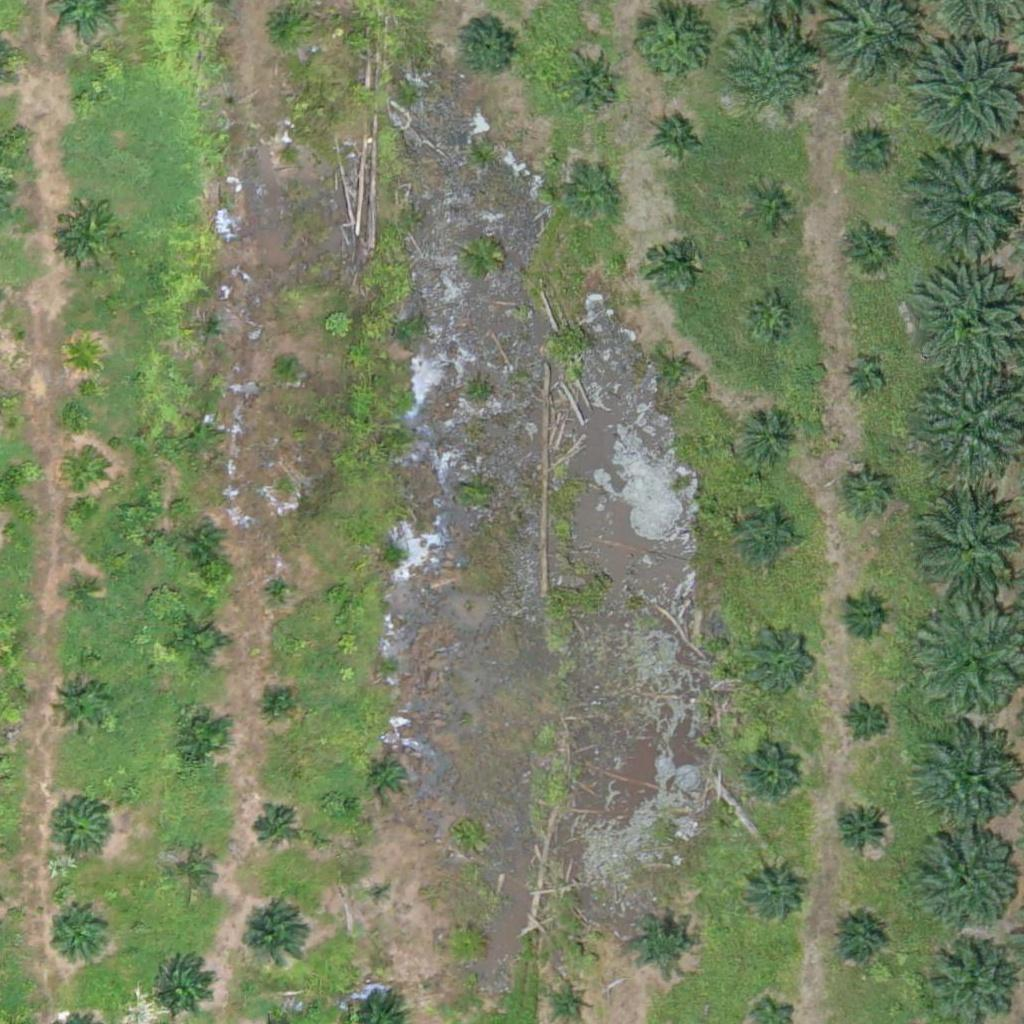Kelapa_Sawit: (910, 727, 1022, 841), (916, 825, 1016, 926), (626, 2, 713, 90), (726, 29, 813, 117), (237, 904, 312, 980), (744, 621, 819, 696), (561, 54, 624, 117), (456, 13, 519, 76), (58, 205, 121, 268), (631, 909, 694, 972), (740, 748, 803, 811), (830, 798, 893, 861), (152, 955, 214, 1018), (49, 677, 111, 740), (169, 710, 231, 773), (47, 797, 109, 860), (51, 908, 113, 971), (740, 408, 802, 471), (739, 505, 801, 568), (741, 859, 803, 922), (827, 910, 889, 973), (649, 106, 711, 169), (168, 611, 230, 674), (842, 465, 892, 516), (838, 589, 888, 640), (250, 803, 300, 854), (568, 173, 618, 223), (644, 237, 694, 287), (746, 293, 796, 343), (747, 184, 797, 234), (165, 848, 215, 898), (842, 697, 892, 747), (844, 125, 894, 175), (845, 228, 895, 278), (364, 751, 414, 801), (551, 985, 589, 1023), (661, 351, 699, 389), (64, 336, 102, 374), (844, 360, 882, 398), (448, 925, 486, 963), (262, 573, 300, 611), (186, 525, 224, 563), (66, 458, 104, 496), (65, 578, 103, 616), (182, 416, 220, 454), (191, 310, 228, 348), (264, 689, 289, 715), (276, 350, 301, 375), (273, 141, 298, 166), (74, 88, 99, 113), (368, 879, 393, 904)
